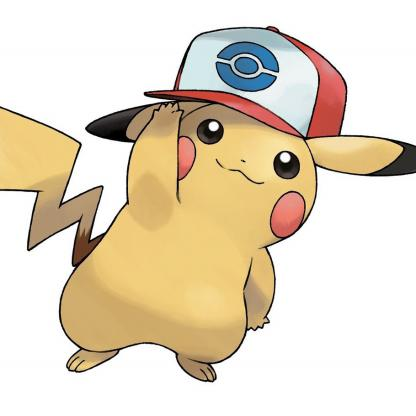Pikachu: (2, 103, 416, 408)
